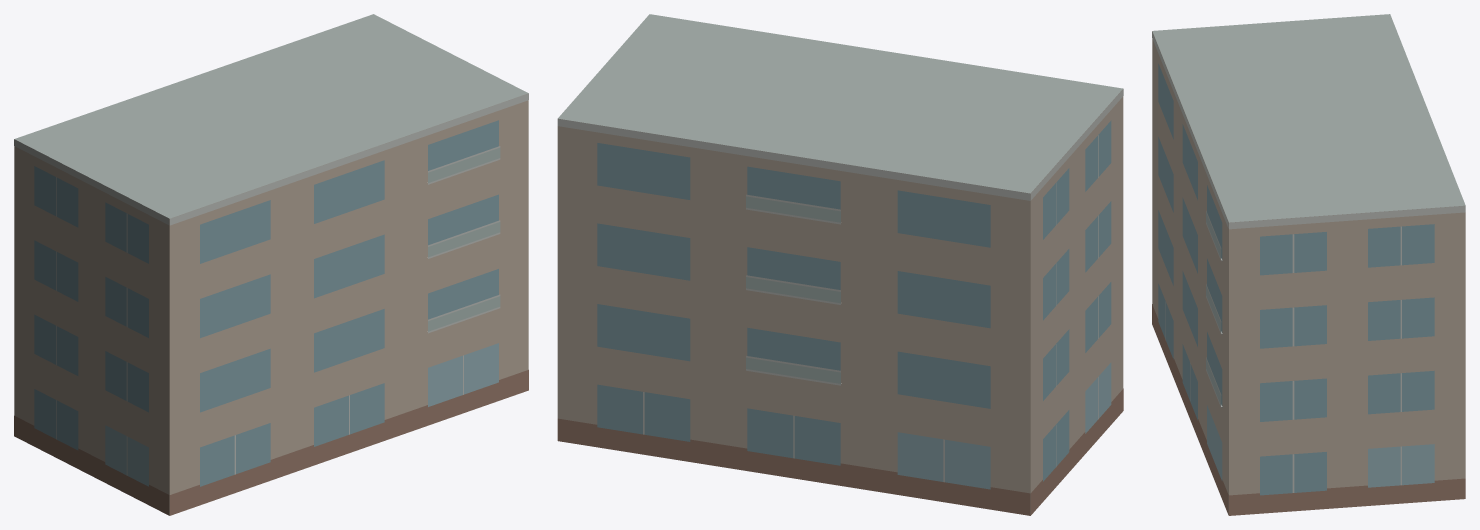
The model's file is survey-upis-32889384.glb.
The picture shows the model from 3 angles, left to right: view 1: azimuth 30°, elevation 25°; view 2: azimuth 150°, elevation 25°; view 3: azimuth 270°, elevation 25°; orthographic projection. The views are drawn at different scales.
Parts seen in each view (by area): view 1: survey-upis-32889384.tmp; view 2: survey-upis-32889384.tmp; view 3: survey-upis-32889384.tmp.
Part boxes in pixels (x1=…): survey-upis-32889384.tmp: x1=14, y1=14, x2=528, y2=515; survey-upis-32889384.tmp: x1=557, y1=14, x2=1123, y2=515; survey-upis-32889384.tmp: x1=1152, y1=14, x2=1465, y2=515.
Bounding box in the file's own units: 16.02 × 10.5 × 10.18.
